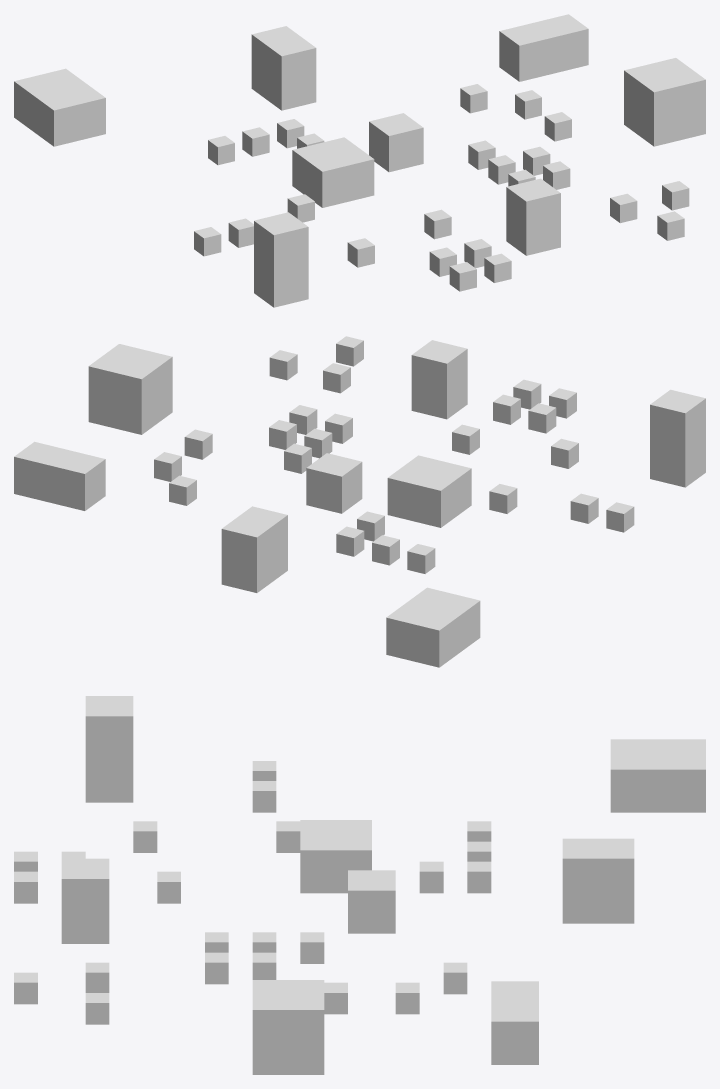
Rendered from simpletown_old.glb.
3 renders of one model, top to bottom at view 1: azimuth 30°, elevation 25°; view 2: azimuth 150°, elevation 25°; view 3: azimuth 270°, elevation 25°, orthographic. The views are drawn at different scales.
Parts seen in each view (by area): view 1: Asset3DLoader.sceneRoot; view 2: Asset3DLoader.sceneRoot; view 3: Asset3DLoader.sceneRoot.
Part boxes in pixels (box(x1,y1,x2,y2)): Asset3DLoader.sceneRoot: box(14, 14, 705, 307); Asset3DLoader.sceneRoot: box(14, 336, 705, 667); Asset3DLoader.sceneRoot: box(14, 696, 705, 1074).
Bounding box in the file's own units: 2.9 × 0.4 × 2.9.
Materials: 1 (1 with a texture image).
